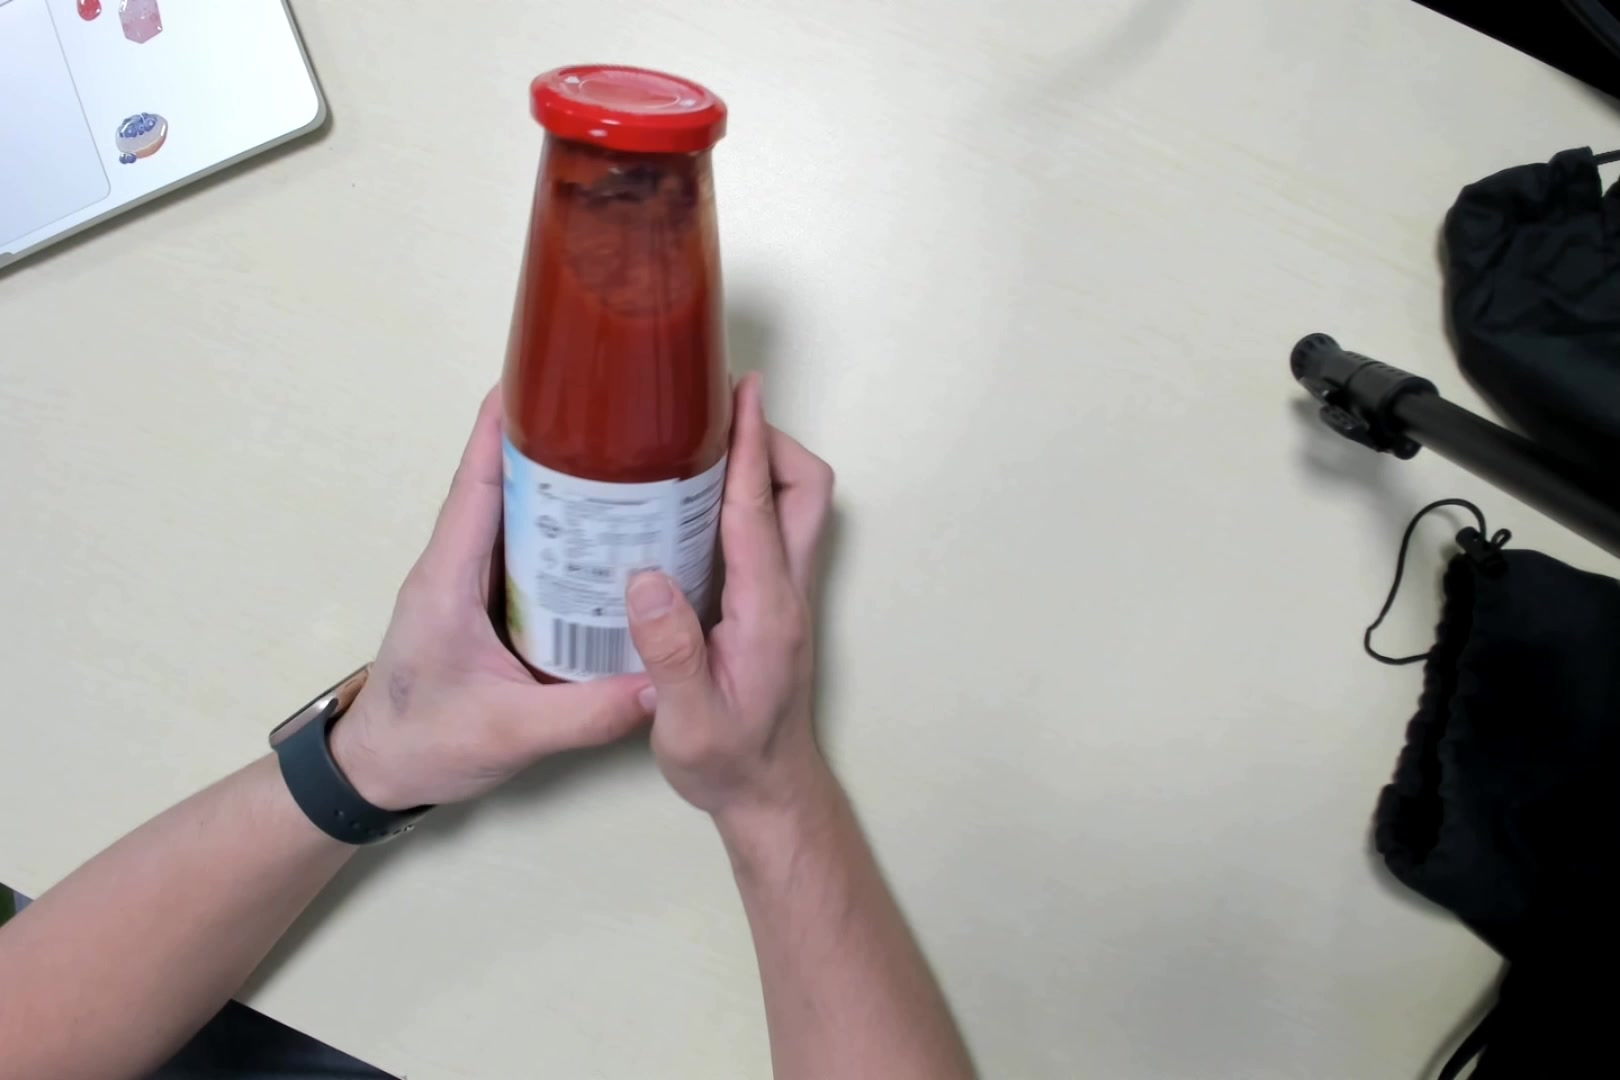PastaSauce_600-699g_NonHalal_NonHealthy: (495, 61, 722, 691)
